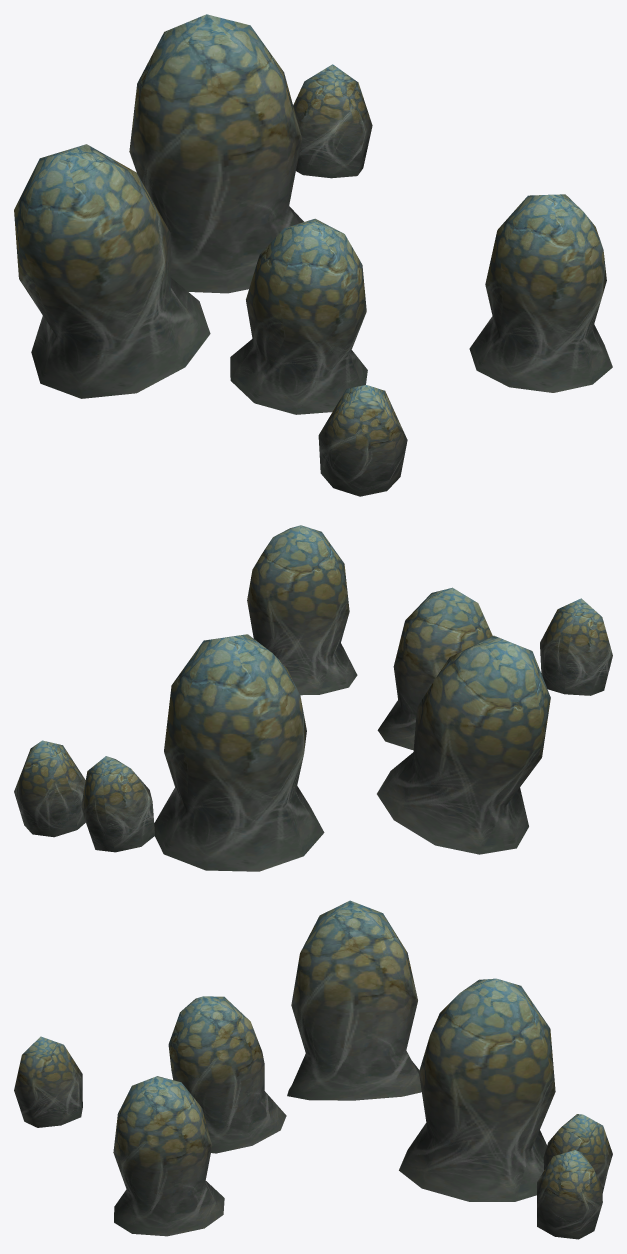
File: 6001_Item_bao_1.FBX
3 renders of one model, top to bottom at view 1: azimuth 30°, elevation 25°; view 2: azimuth 150°, elevation 25°; view 3: azimuth 270°, elevation 25°, orthographic. The views are drawn at different scales.
Parts seen in each view (by area): view 1: 6001_Item_bao_1; view 2: 6001_Item_bao_1; view 3: 6001_Item_bao_1.
Part boxes in pixels (x1,y1,x2,y2): 6001_Item_bao_1: [14, 14, 612, 496]; 6001_Item_bao_1: [14, 525, 612, 871]; 6001_Item_bao_1: [14, 900, 612, 1239].
Bounding box in the file's own units: 292 × 145 × 395.
